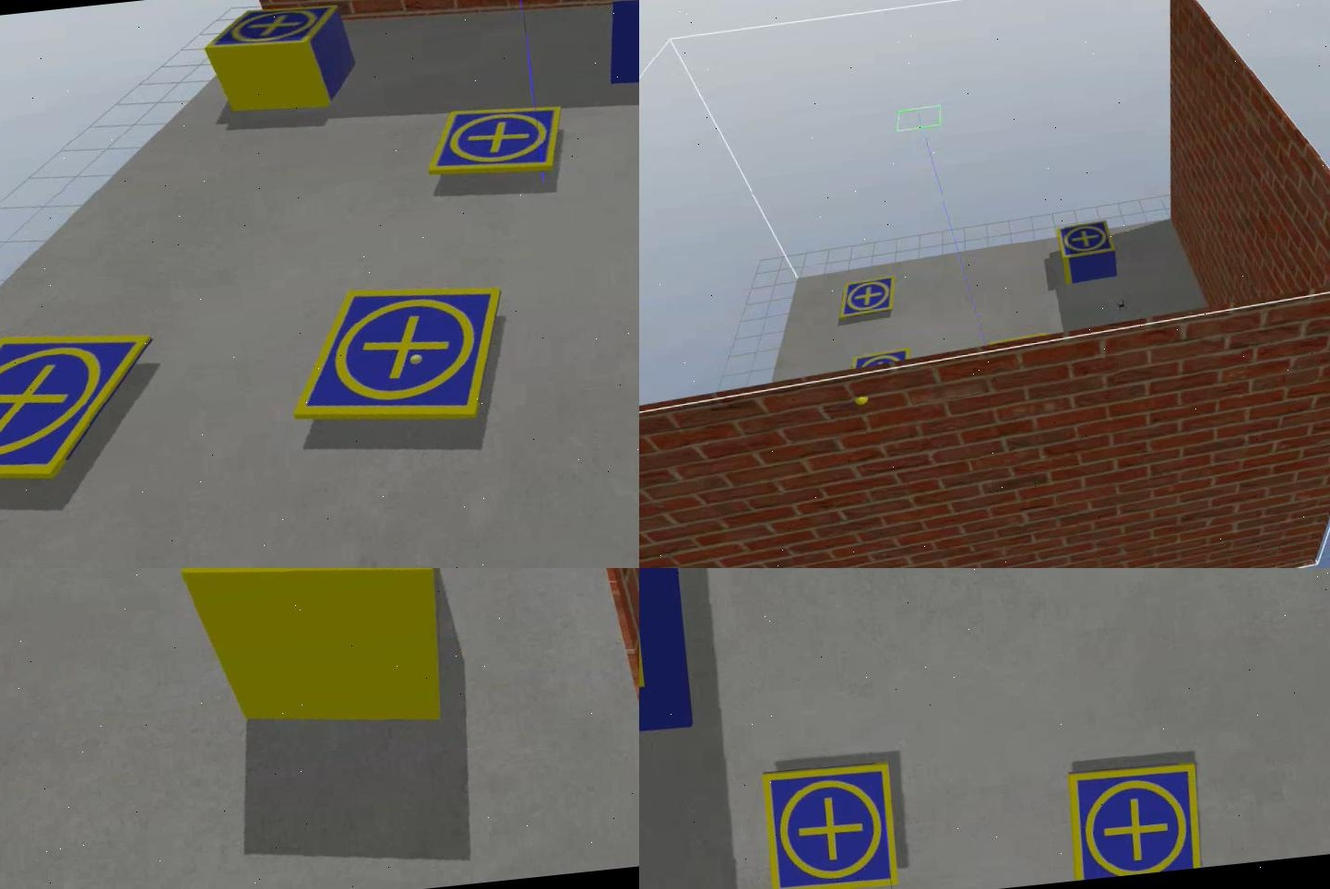small_base: (281, 275, 511, 433), (0, 314, 166, 492), (756, 758, 903, 889), (1062, 757, 1208, 883), (422, 101, 566, 185), (197, 3, 344, 58), (832, 273, 898, 323), (1052, 218, 1114, 262), (849, 349, 909, 373)
